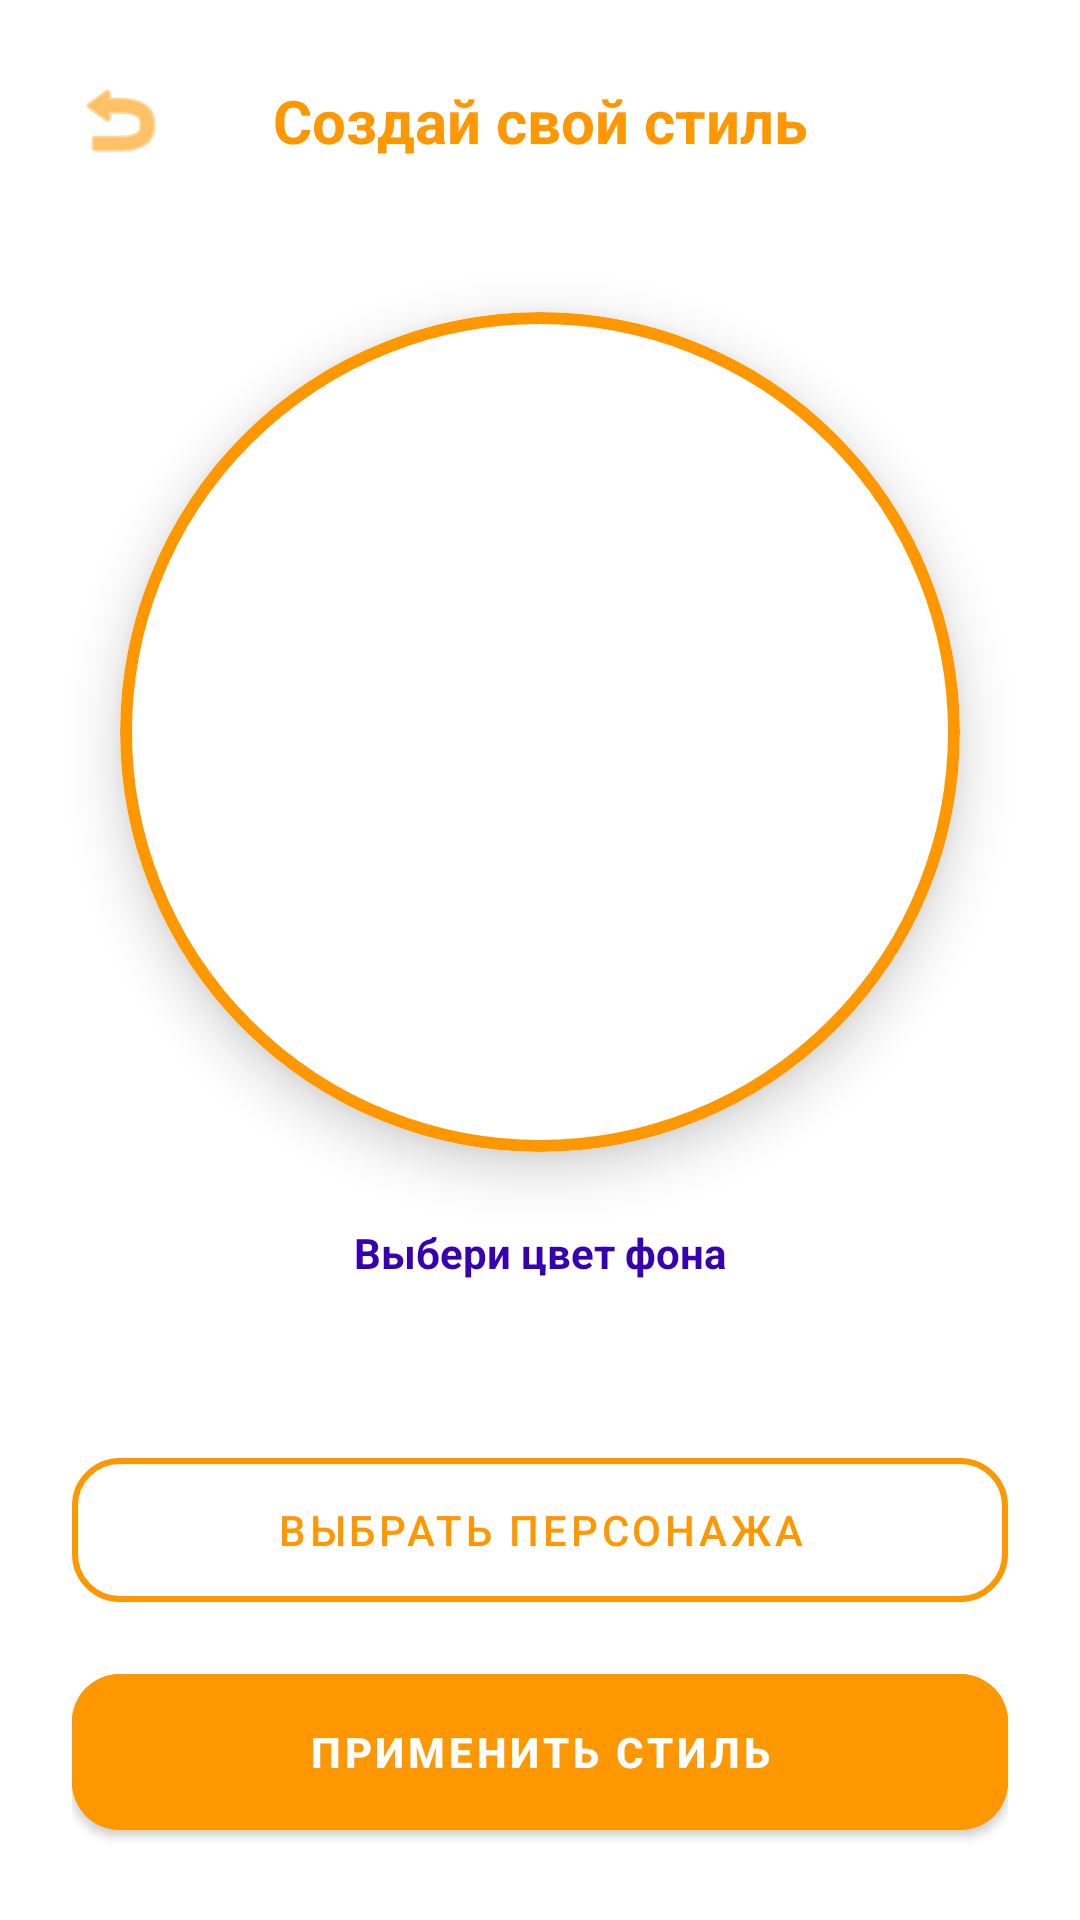

Icons on this 1080px x 1920px Android screen, each with its box as (x1, y1, x2, y2):
Назад: (87, 89, 156, 152)
